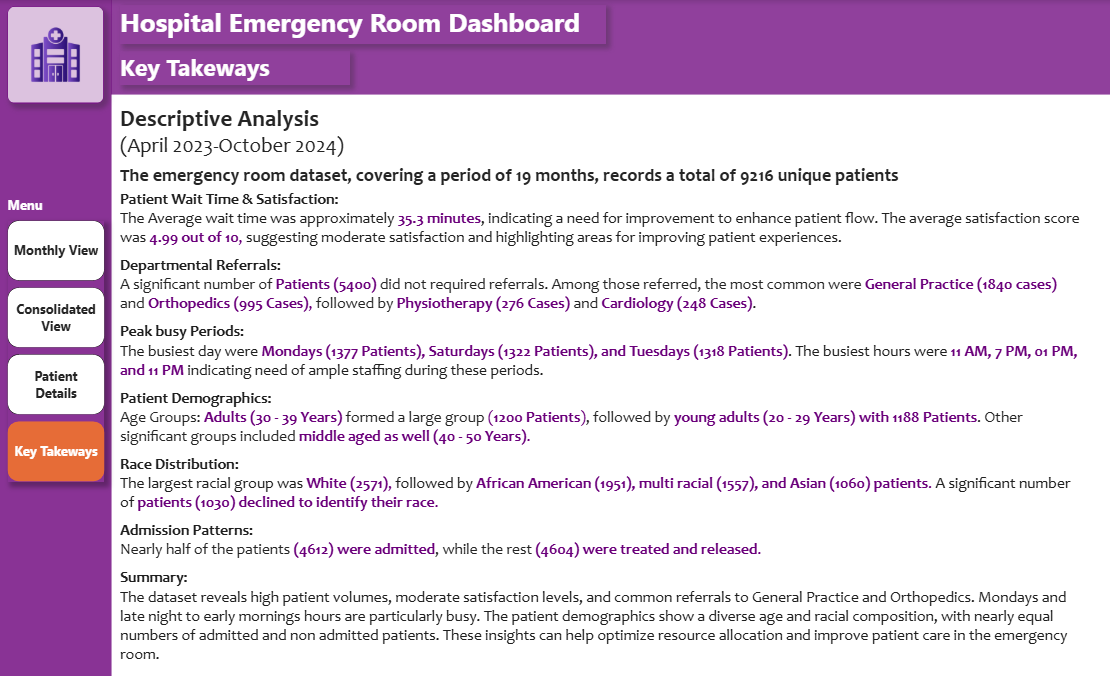

Layout of this report page (visuals, bound fields, positions):
{"tool":"powerbi","page":{"name":"Key Takeways","canvas":[2300,1400],"ordinal":3},"visuals":[{"type":"shape","box":[230,0,2067.5,195],"z":0},{"type":"shape","box":[0,0,230,1397.5],"z":1000},{"type":"textbox","box":[247.5,10,1001.1,81.1],"z":2000},{"type":"textbox","box":[246.7,106.7,473.3,70],"z":3000},{"type":"image","box":[15,12.5,198.5,201.3],"z":4000},{"type":"textbox","box":[246.7,213.3,547.8,122.8],"z":6000},{"type":"textbox","box":[246.7,336.7,1856.9,54.2],"z":6001},{"type":"textbox","box":[246.7,390,1980,1006.7],"z":6002},{"type":"pageNavigator","box":[16.7,453.3,200,540],"z":6003},{"type":"textbox","box":[16.7,406.7,133.3,43.3],"z":6004}]}

Visuals, with their boxes on the page's 2300x1400 design canvas (x1, y1, x2, y2). These are canvas units, not pixel positions in the 1110x676 screenshot, which may show the page scaled, cropped or inside an application window:
shape: bbox=(230, 0, 2298, 195)
shape: bbox=(0, 0, 230, 1398)
textbox: bbox=(248, 10, 1249, 91)
textbox: bbox=(247, 107, 720, 177)
image: bbox=(15, 12, 214, 214)
textbox: bbox=(247, 213, 794, 336)
textbox: bbox=(247, 337, 2104, 391)
textbox: bbox=(247, 390, 2227, 1397)
pageNavigator: bbox=(17, 453, 217, 993)
textbox: bbox=(17, 407, 150, 450)
